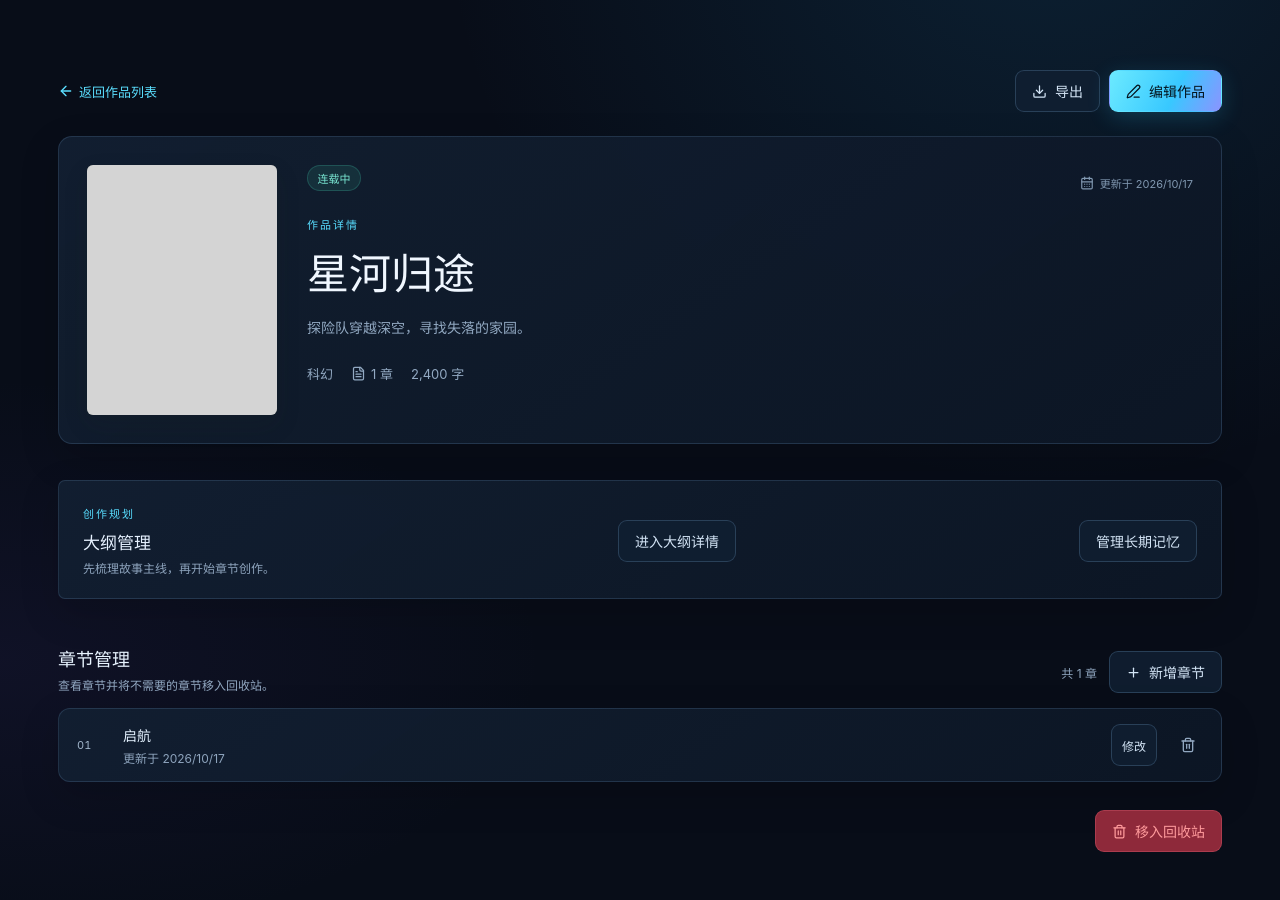
Test: 作品详情页 › 章节支持从详情页移入回收站并更新列表
The image size is (1280, 900).
Click the button named "将启航移入回收站": (1188, 745) [1173, 730, 1203, 760]
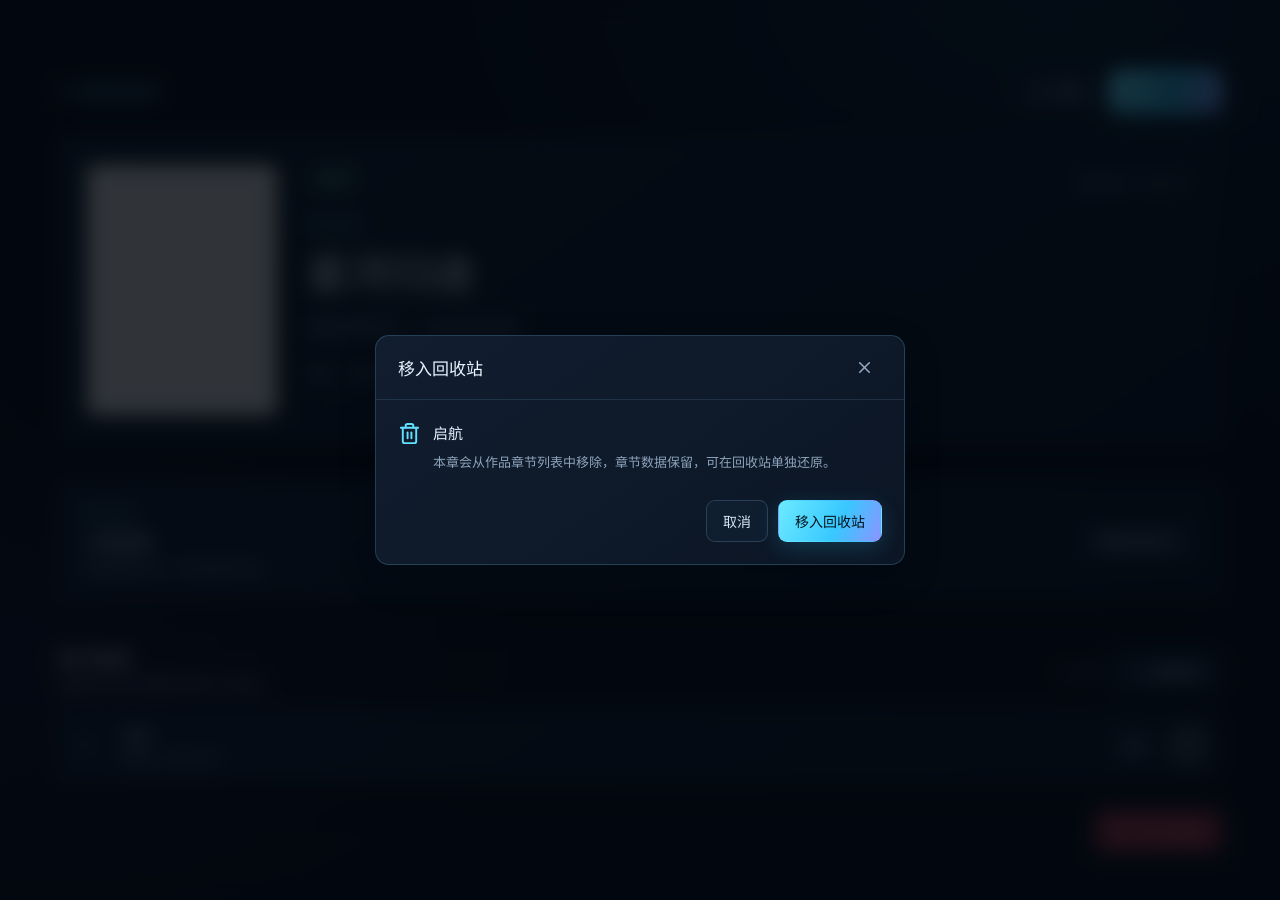
Click the button "移入回收站": (830, 521) [778, 500, 882, 542]
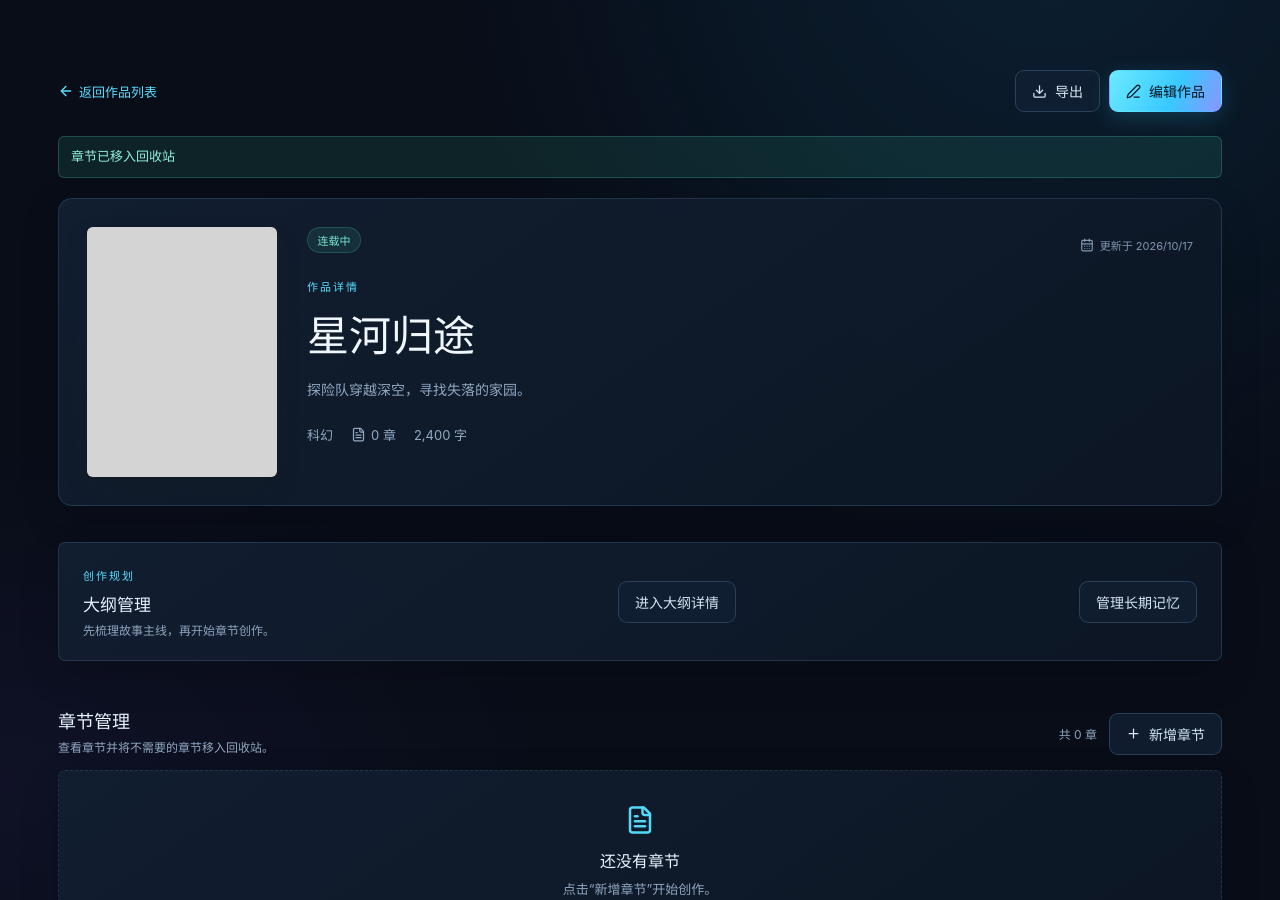
Expected: the heading "还没有章节" is shown, [600, 848, 680, 872]
